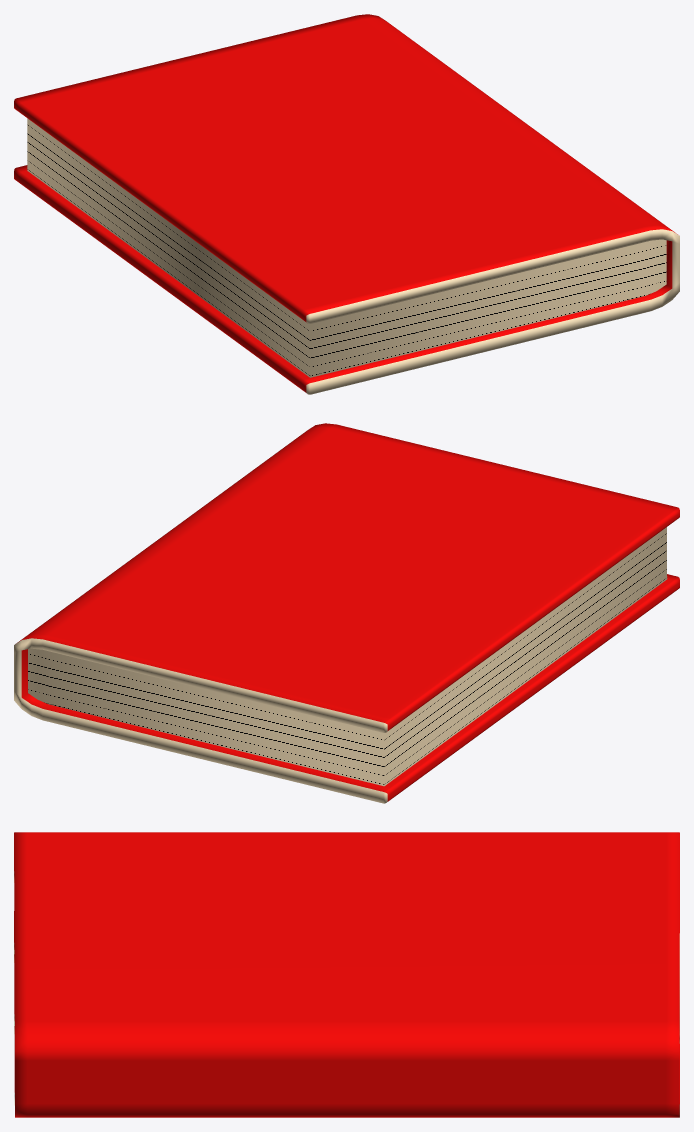
The model's file is book-red.fbx.
The picture shows the model from 3 angles, top to bottom: view 1: azimuth 30°, elevation 25°; view 2: azimuth 150°, elevation 25°; view 3: azimuth 270°, elevation 25°; orthographic projection. The views are drawn at different scales.
Visible parts, largest first — view 1: book_red; view 2: book_red; view 3: book_red.
Boxes of the visible parts, bbox=[...] form: book_red: bbox=[14, 14, 679, 394]; book_red: bbox=[14, 423, 679, 803]; book_red: bbox=[14, 832, 679, 1117].
Bounding box in the file's own units: 8.66 × 1.79 × 11.81.
Materials: 1 (1 with a texture image).
